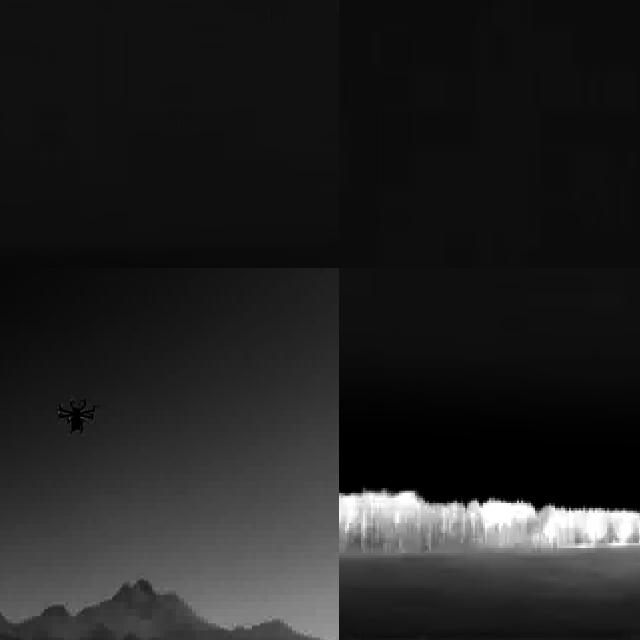0: (329, 0, 339, 23)
drone: (54, 395, 103, 443)
